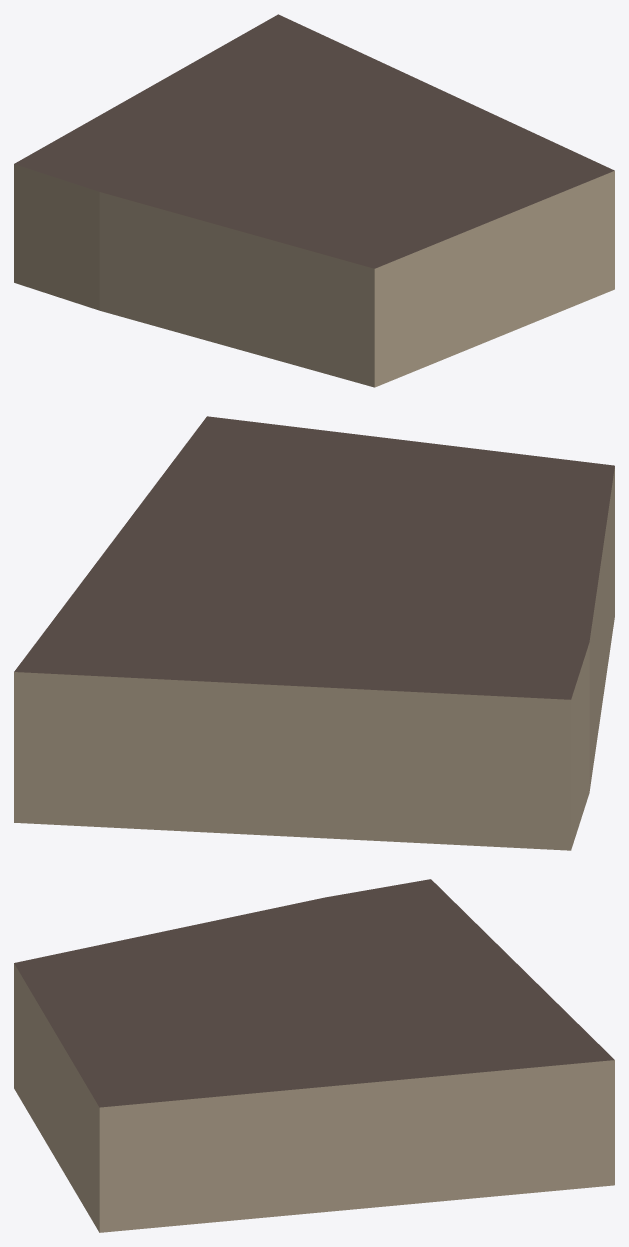
The picture shows the model from 3 angles, top to bottom: view 1: azimuth 30°, elevation 25°; view 2: azimuth 150°, elevation 25°; view 3: azimuth 270°, elevation 25°; orthographic projection. The views are drawn at different scales.
Visible parts, largest first — view 1: HP-w1199660261; view 2: HP-w1199660261; view 3: HP-w1199660261.
Part boxes in pixels (box(x1,y1,x2,y2)): HP-w1199660261: box(14, 14, 614, 387); HP-w1199660261: box(14, 416, 614, 850); HP-w1199660261: box(14, 879, 614, 1232).
Bounding box in the file's own units: 35.19 × 9 × 39.12.
